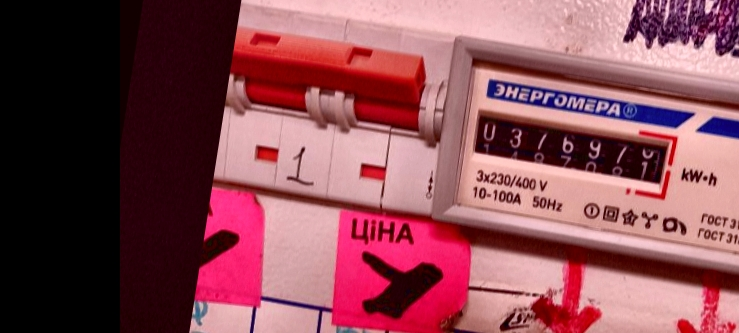0: (479, 118, 497, 142)
1: (636, 158, 648, 181)
3: (506, 125, 522, 148)
6: (558, 130, 576, 155)
7: (611, 139, 629, 164), (532, 127, 550, 151)
9: (585, 136, 602, 160)
screen: (458, 99, 681, 203)
